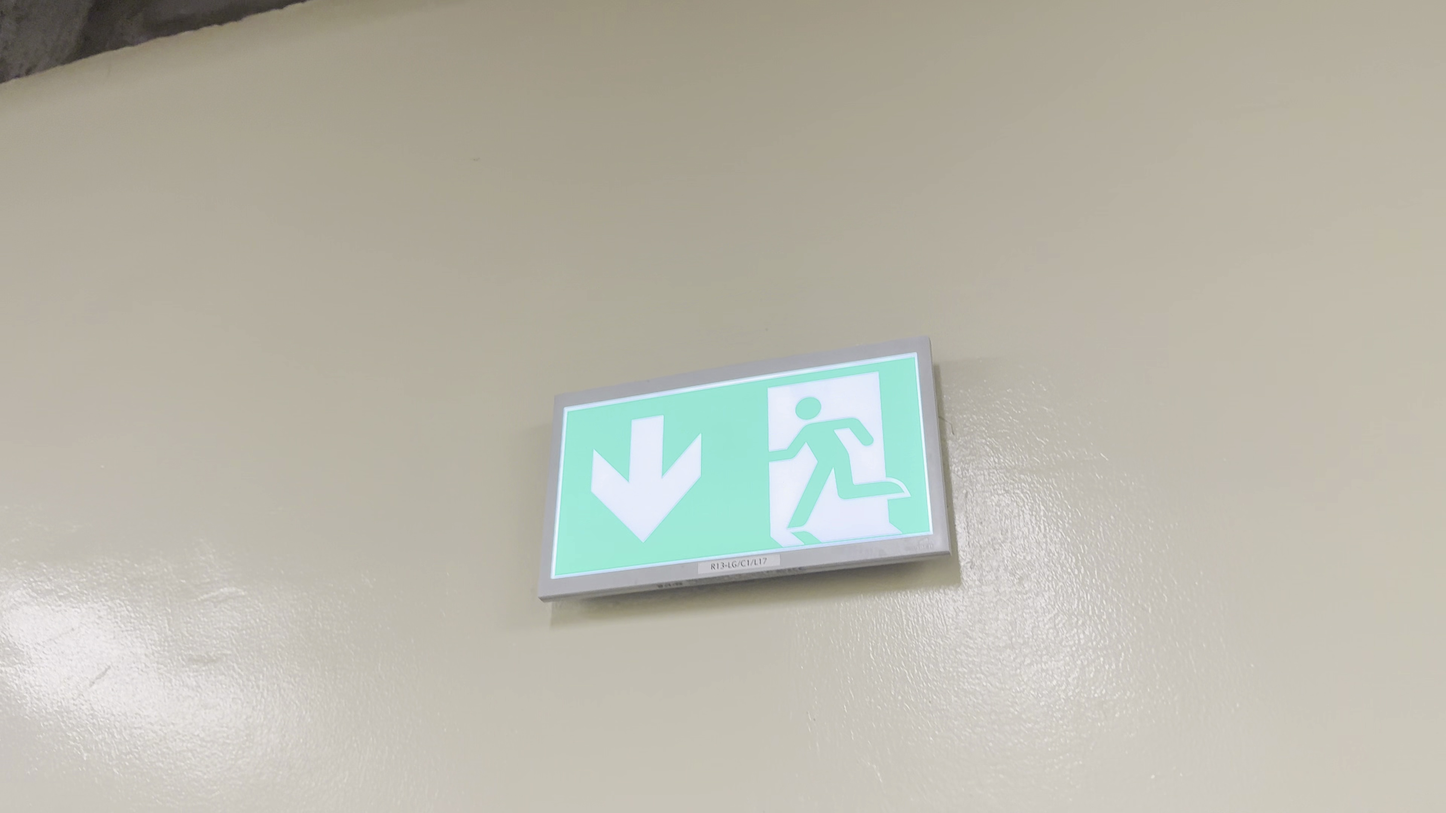safety_helmet: (511, 207, 1282, 423)
